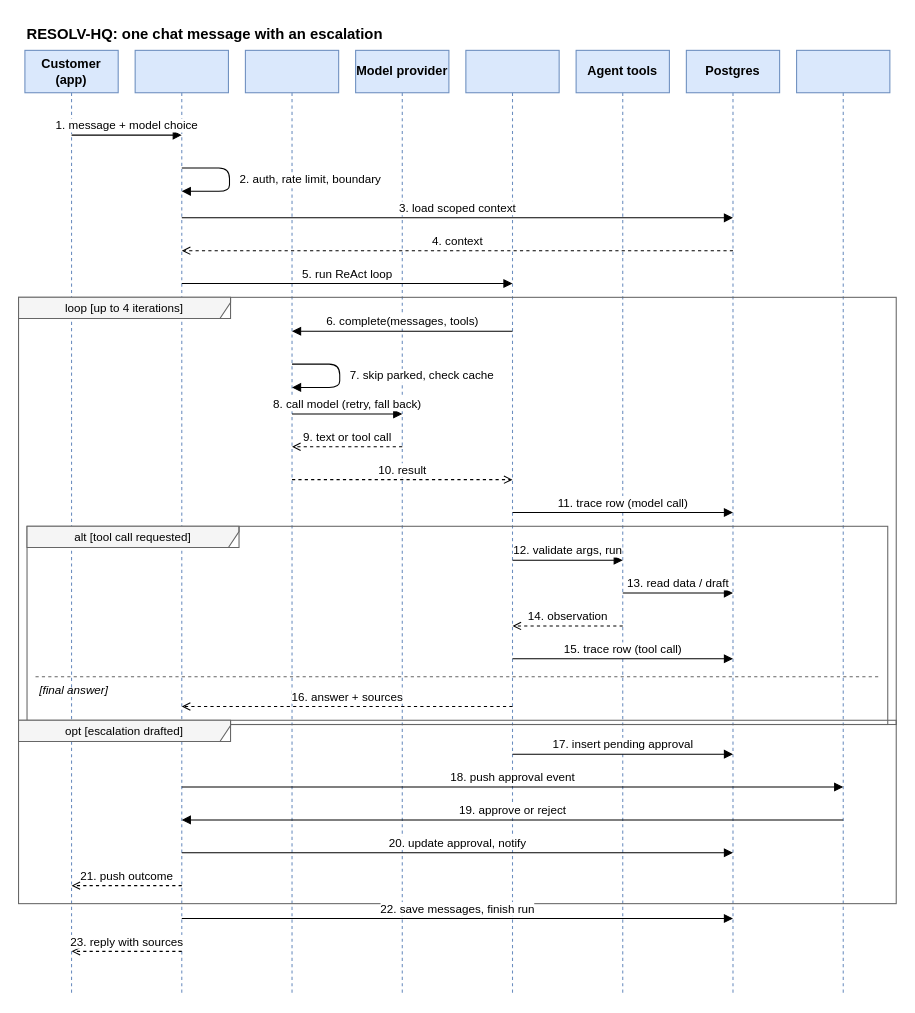
This 915x1013 diagram has some shape labels left out. Here are the shapes that lost their labels. From the top down, the box of each, then its label:
(134, 49, 228, 995): Express API
(244, 49, 339, 995): LLM gateway
(465, 49, 559, 995): ReAct loop
(796, 49, 890, 995): Staff (console)
